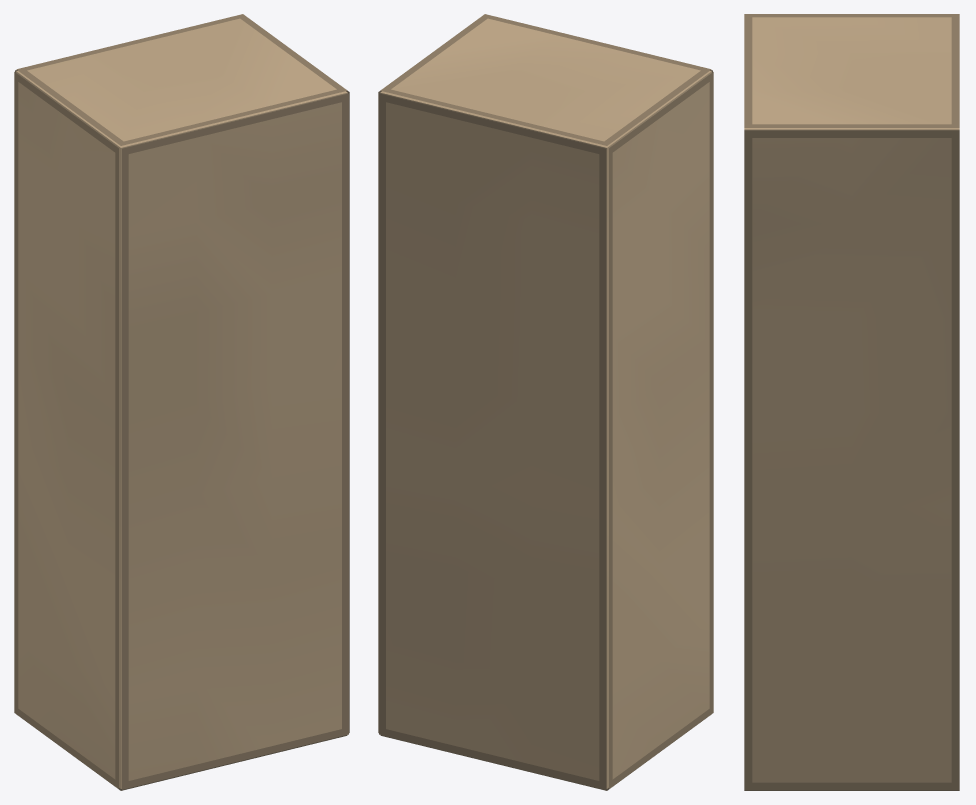
The model's file is osen-a.glb.
The picture shows the model from 3 angles, left to right: view 1: azimuth 30°, elevation 25°; view 2: azimuth 150°, elevation 25°; view 3: azimuth 270°, elevation 25°; orthographic projection. The views are drawn at different scales.
Visible parts, largest first — view 1: osen-a; view 2: osen-a; view 3: osen-a.
Part boxes in pixels (box(x1,y1,x2,y2)): osen-a: box(14, 14, 349, 790); osen-a: box(378, 14, 713, 790); osen-a: box(744, 14, 959, 790).
Bounding box in the file's own units: 0.0508 × 0.1358 × 0.0408.
